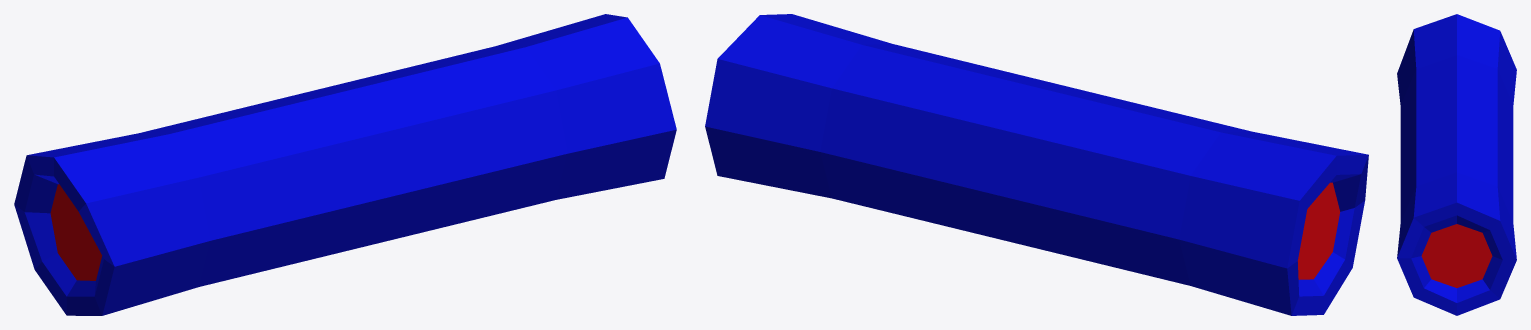
File: SM_Short_Log6.fbx
The picture shows the model from 3 angles, left to right: view 1: azimuth 30°, elevation 25°; view 2: azimuth 150°, elevation 25°; view 3: azimuth 270°, elevation 25°; orthographic projection. The views are drawn at different scales.
Parts seen in each view (by area): view 1: SM_Short_Log6; view 2: SM_Short_Log6; view 3: SM_Short_Log6.
Boxes of the visible parts, <box> form: SM_Short_Log6: <box>14,14,676,315</box>; SM_Short_Log6: <box>705,14,1368,315</box>; SM_Short_Log6: <box>1397,14,1516,315</box>.
Bounding box in the file's own units: 77.08 × 20.21 × 20.21.
